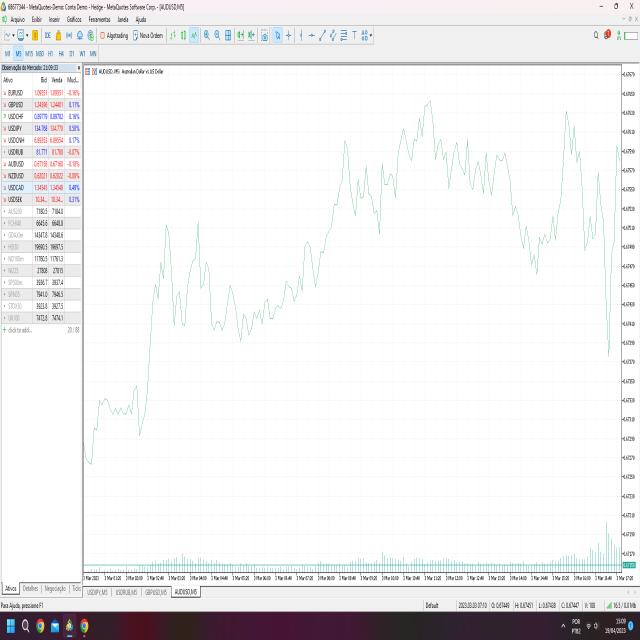topo_duplo: (141, 150, 215, 388)
